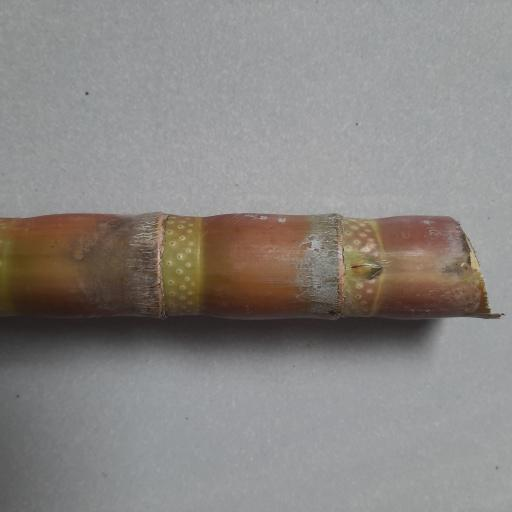Bud: (347, 254, 384, 281)
